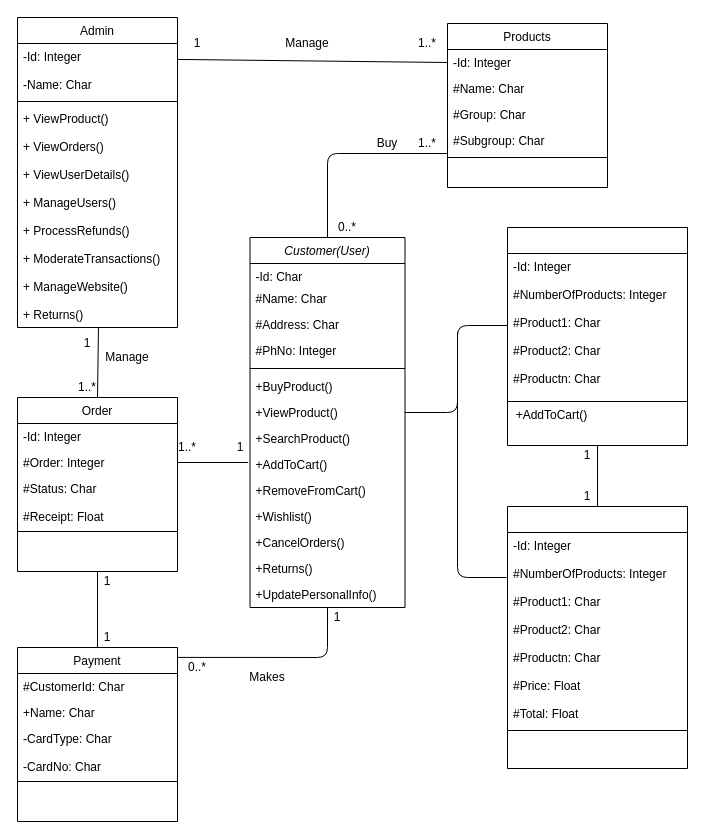
This 705x839 diagram has some shape labels left out. Here are the shapes that lost their labels. From the top down, the box of each, then its label:
(506, 226, 688, 446): Wishlist
(506, 506, 688, 768): Cart
